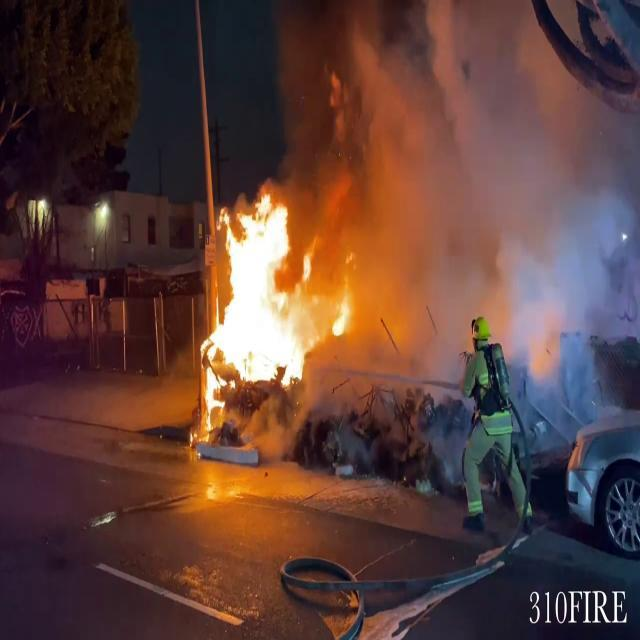Fire: (193, 186, 352, 440)
Smoke: (284, 0, 640, 393)
